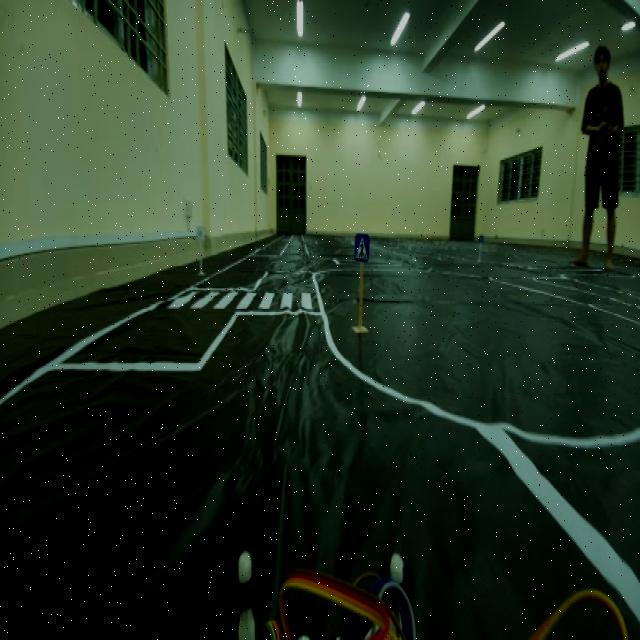crosswalk: (351, 221, 373, 273)
